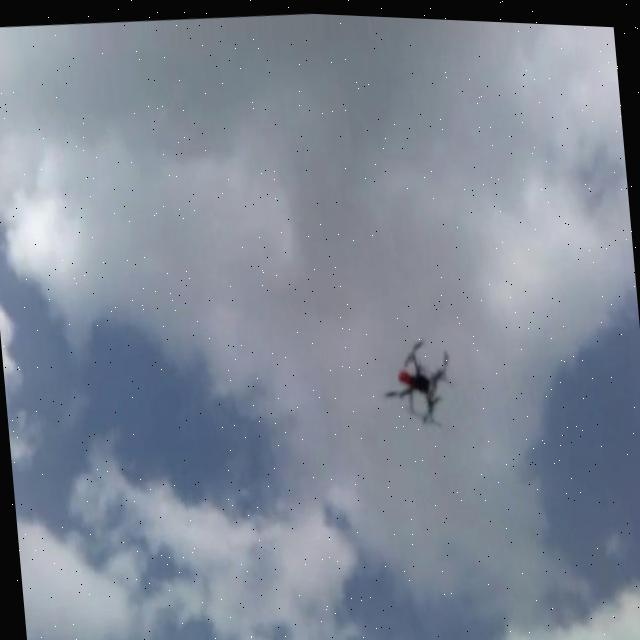drone: (378, 325, 459, 428)
